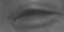RightEyeFatigue: (6, 4, 64, 30)
